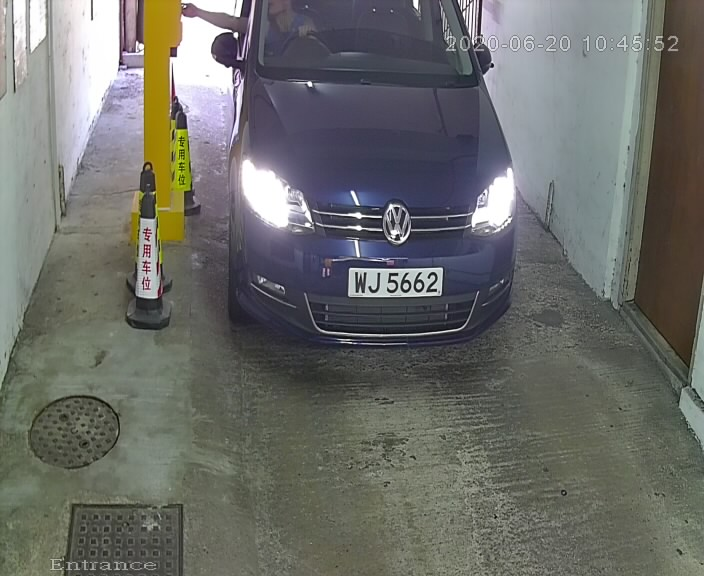privatecar: (210, 3, 520, 364)
